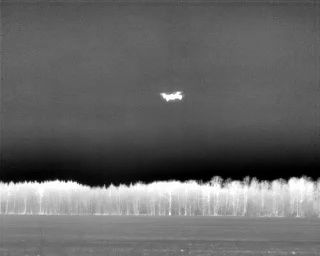DRONE: (156, 86, 188, 106)
